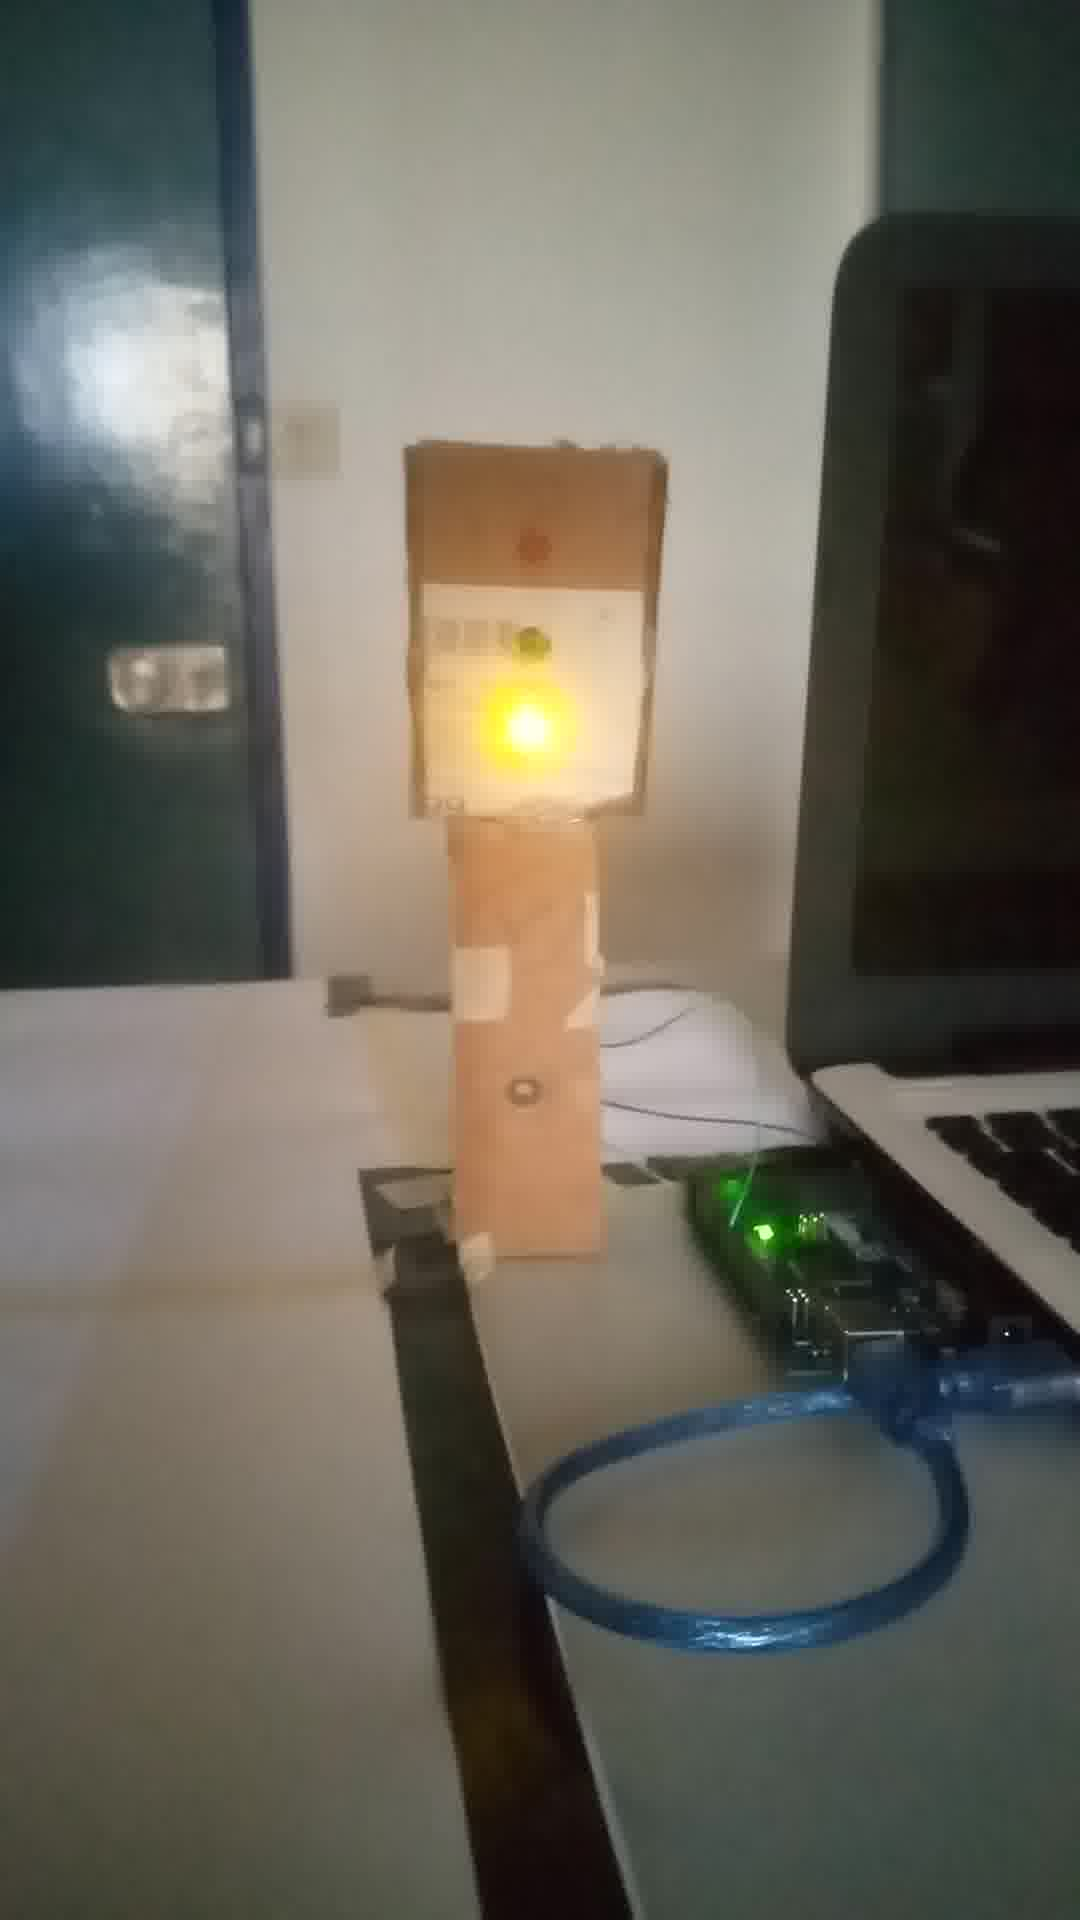green: (398, 434, 658, 825)
